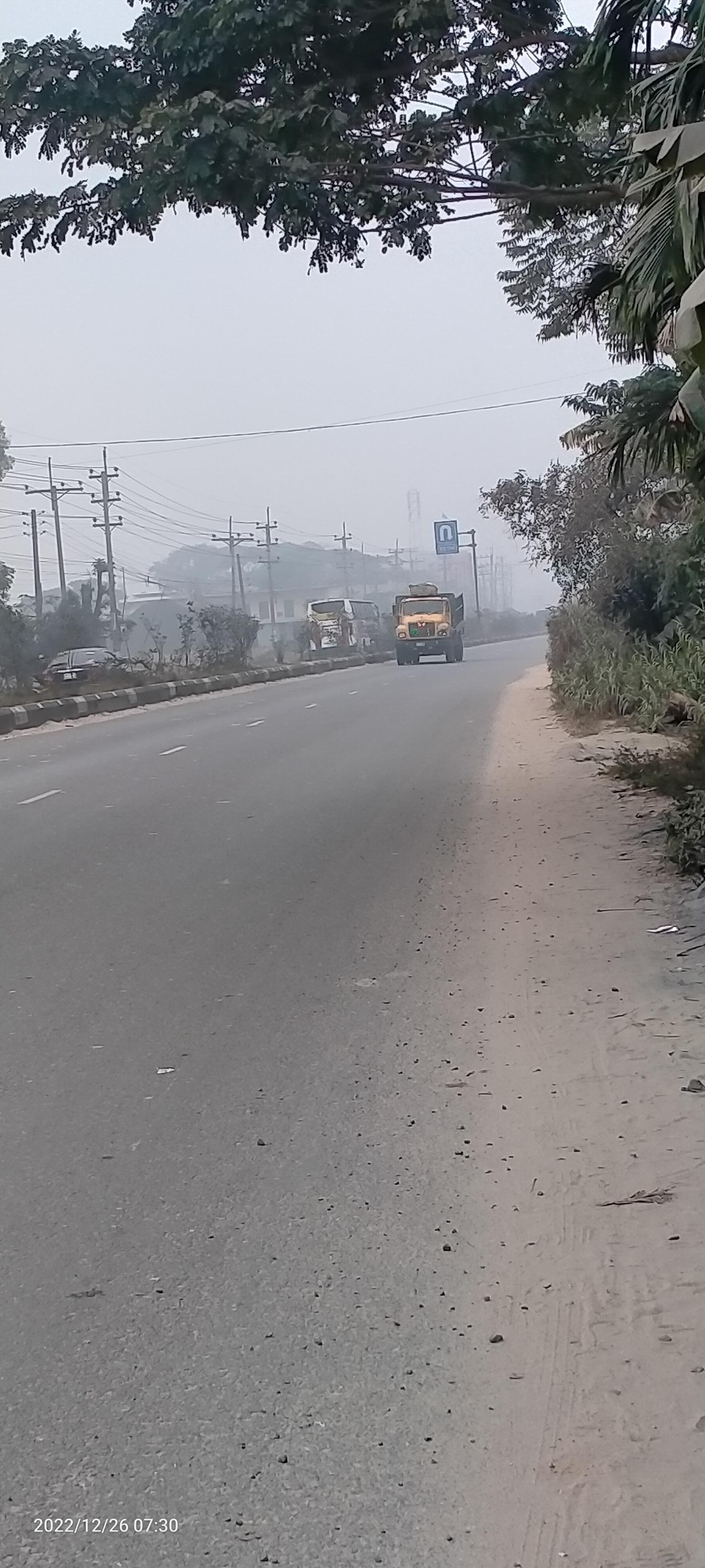Bus: (295, 586, 389, 663)
Car: (42, 637, 145, 701)
Truck: (375, 576, 484, 666)
